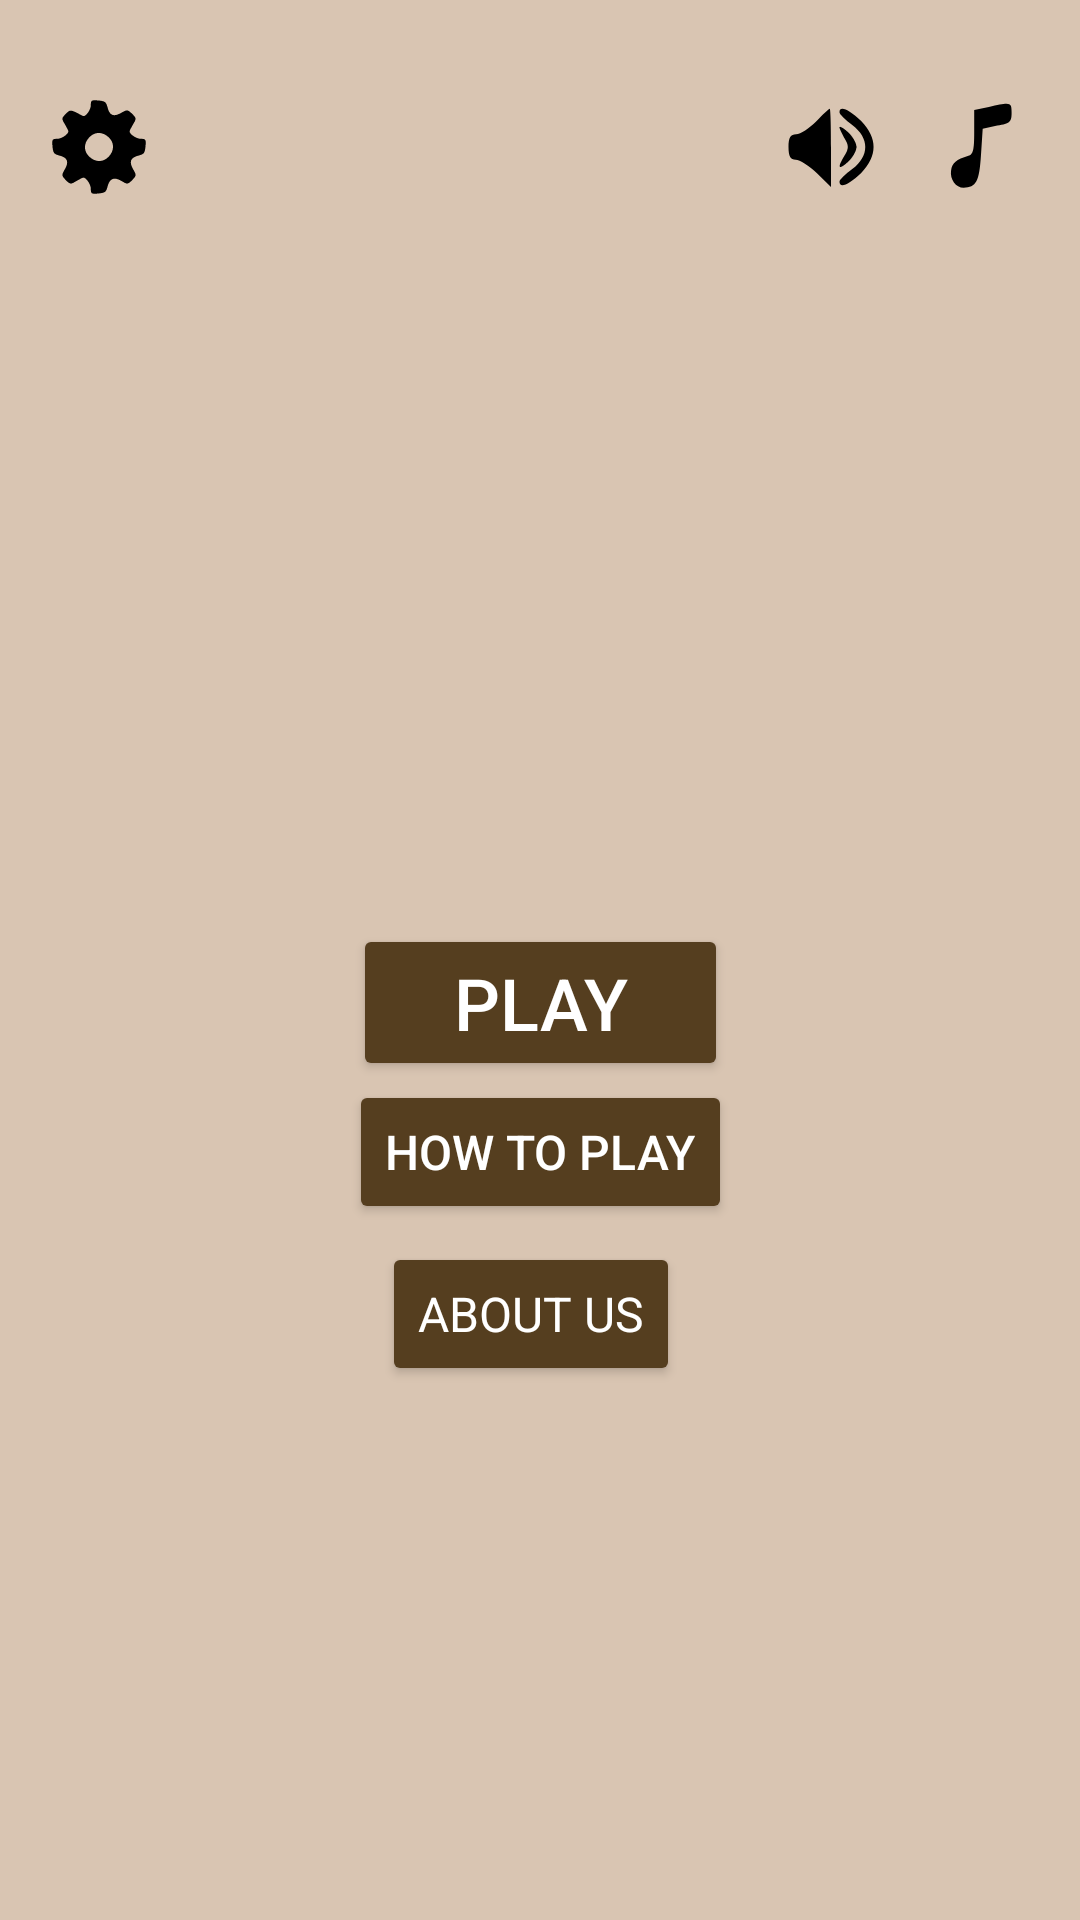

Named icons in this screenshot (1080x1920) and their bounding boxes, bbox=[x1, y1, x2, y2]:
settings: bbox=[52, 100, 146, 194]
